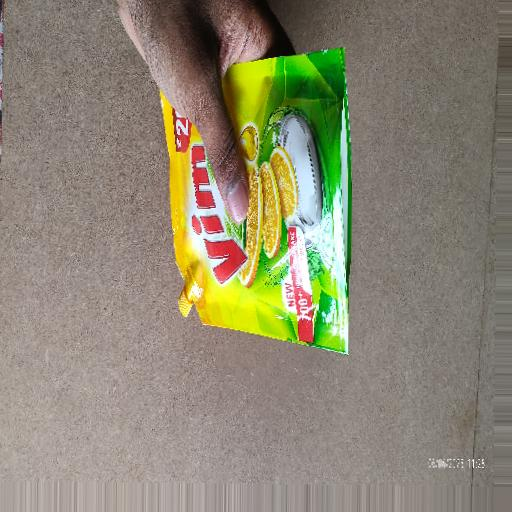VIM Dishwash liquid: (118, 47, 390, 378)
